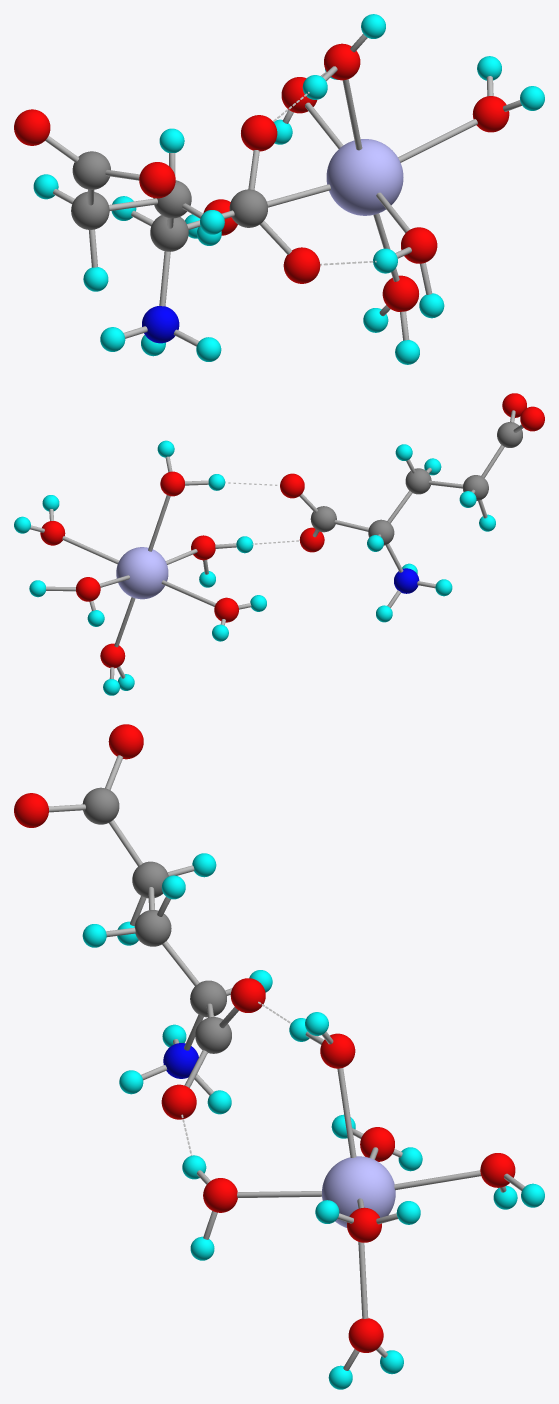
Rendered from sodium glutamate.glb.
3 views of the same model, one above another, from view 1: azimuth 30°, elevation 25°; view 2: azimuth 150°, elevation 25°; view 3: azimuth 270°, elevation 25° (orthographic). The views are drawn at different scales.
Visible parts, largest first — view 1: CMAtom_64, CMAtom_37, CMAtom_168, CMAtom_167, CMAtom_149, CMAtom_125, CMAtom_178, CMAtom_179, CMAtom_66, CMAtom_154, CMAtom_71, CMAtom_73 (+22 smaller); view 2: CMAtom_64, CMAtom_37, CMAtom_166, CMAtom_168, CMAtom_149, CMAtom_178, CMAtom_154, CMAtom_75, CMAtom_33, CMAtom_76, CMAtom_71, CMAtom_73 (+5 smaller); view 3: CMAtom_64, CMAtom_168, CMAtom_166, CMAtom_37, CMAtom_125, CMAtom_66, CMAtom_71, CMAtom_179, CMAtom_154, CMAtom_77, CMAtom_178, CMAtom_167 (+5 smaller).
Part boxes in pixels (box(x1,y1,x2,y2)): CMAtom_64: box(326, 139, 403, 215); CMAtom_37: box(229, 189, 267, 227); CMAtom_168: box(72, 151, 110, 189); CMAtom_167: box(71, 191, 109, 229); CMAtom_149: box(142, 306, 179, 343); CMAtom_125: box(150, 215, 188, 251); CMAtom_178: box(14, 109, 50, 145); CMAtom_179: box(139, 162, 175, 198); CMAtom_66: box(283, 247, 320, 283); CMAtom_154: box(241, 115, 277, 151); CMAtom_71: box(382, 275, 418, 311); CMAtom_73: box(472, 96, 509, 132); CMAtom_64: box(116, 547, 168, 599); CMAtom_37: box(310, 506, 336, 532); CMAtom_166: box(405, 468, 431, 494); CMAtom_168: box(497, 422, 522, 447); CMAtom_149: box(394, 568, 419, 593); CMAtom_178: box(520, 406, 544, 431); CMAtom_154: box(280, 473, 304, 498); CMAtom_75: box(160, 471, 184, 496); CMAtom_33: box(76, 577, 100, 601); CMAtom_76: box(214, 597, 238, 622); CMAtom_71: box(100, 643, 125, 668); CMAtom_73: box(40, 521, 65, 545); CMAtom_64: box(322, 1156, 395, 1227); CMAtom_168: box(82, 787, 119, 824); CMAtom_166: box(134, 910, 171, 946); CMAtom_37: box(195, 1017, 231, 1053); CMAtom_125: box(190, 980, 226, 1017); CMAtom_66: box(161, 1084, 196, 1119); CMAtom_71: box(348, 1318, 383, 1352); CMAtom_179: box(14, 793, 48, 827); CMAtom_154: box(230, 978, 265, 1012); CMAtom_77: box(203, 1178, 237, 1212); CMAtom_178: box(108, 724, 143, 759); CMAtom_167: box(132, 861, 168, 898).
Bounding box in the file's own units: 11.67 × 8 × 8.86.
